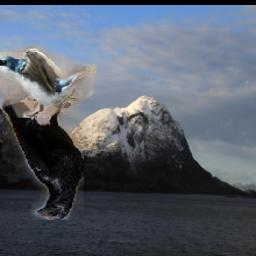Crow: (2, 90, 84, 221)
Swallow: (0, 45, 98, 118)
